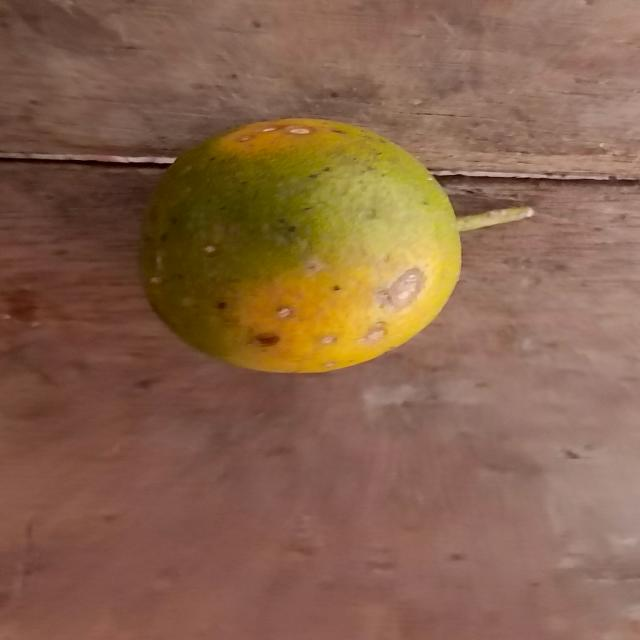black spot: (133, 114, 466, 378)
